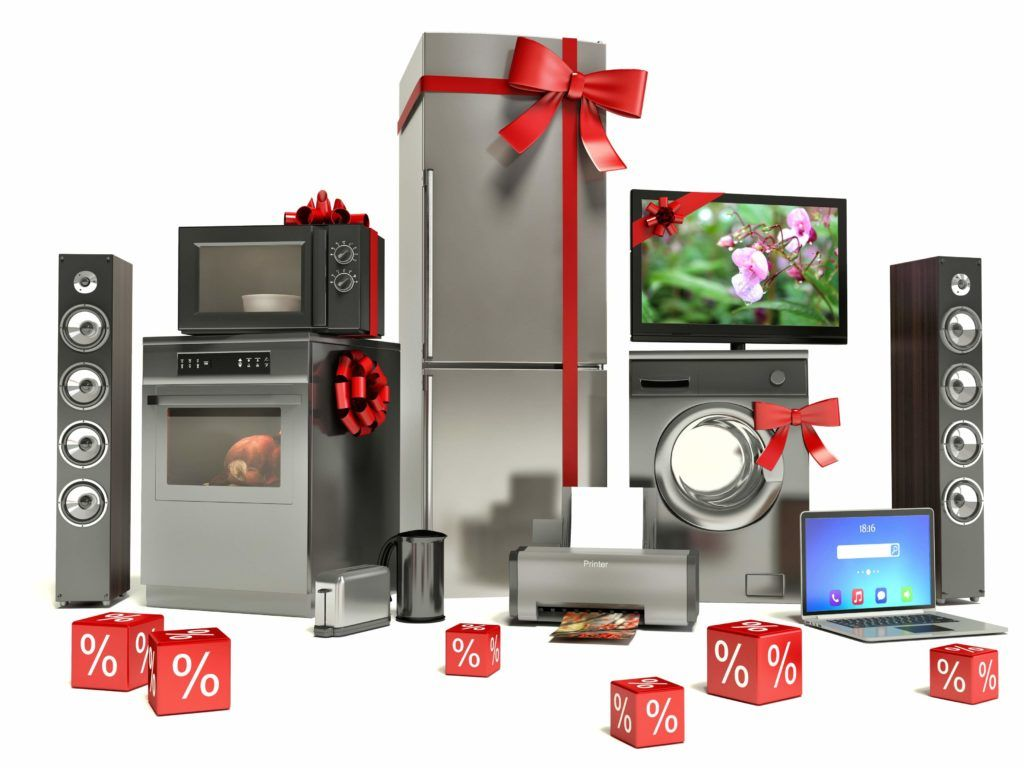Refrigerator: (424, 32, 609, 488)
